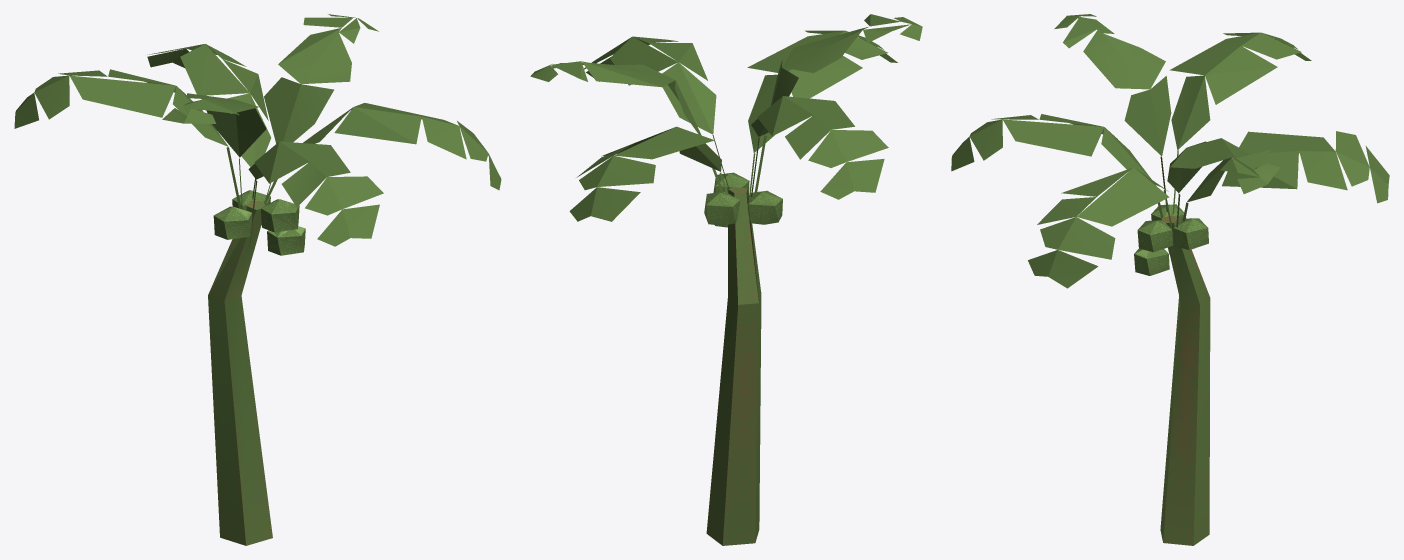
Rendered from Vegetation_Tree_Palm_Coconuts_03.fbx.
The picture shows the model from 3 angles, left to right: view 1: azimuth 30°, elevation 25°; view 2: azimuth 150°, elevation 25°; view 3: azimuth 270°, elevation 25°; orthographic projection. The views are drawn at different scales.
Parts seen in each view (by area): view 1: Vegetation_Tree_Palm_Coconuts_03; view 2: Vegetation_Tree_Palm_Coconuts_03; view 3: Vegetation_Tree_Palm_Coconuts_03.
Part boxes in pixels (<box>): Vegetation_Tree_Palm_Coconuts_03: <box>14,14,501,545</box>; Vegetation_Tree_Palm_Coconuts_03: <box>530,14,922,545</box>; Vegetation_Tree_Palm_Coconuts_03: <box>951,14,1389,545</box>.
Bounding box in the file's own units: 144 × 179 × 152.
